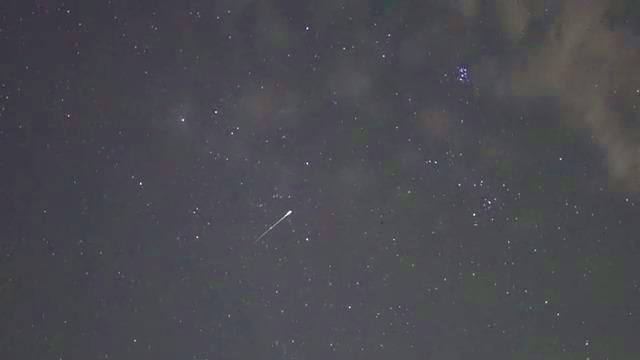meteorite: (238, 202, 312, 244)
